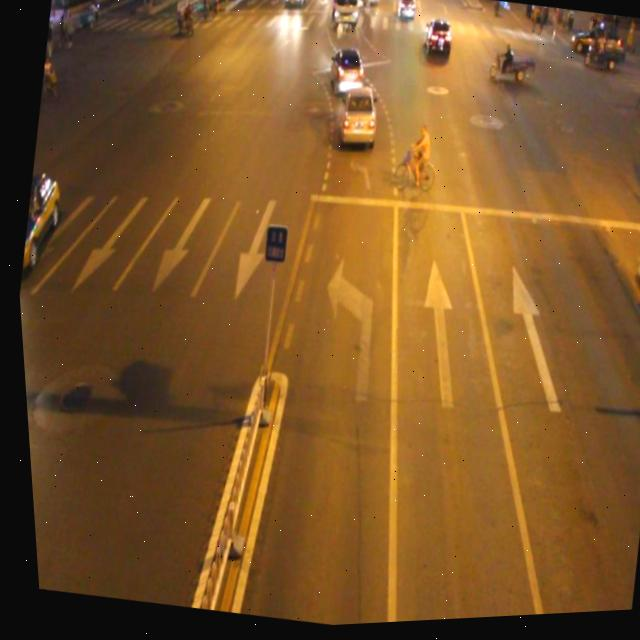car: (14, 170, 66, 275), (331, 82, 384, 151), (321, 42, 370, 103)
